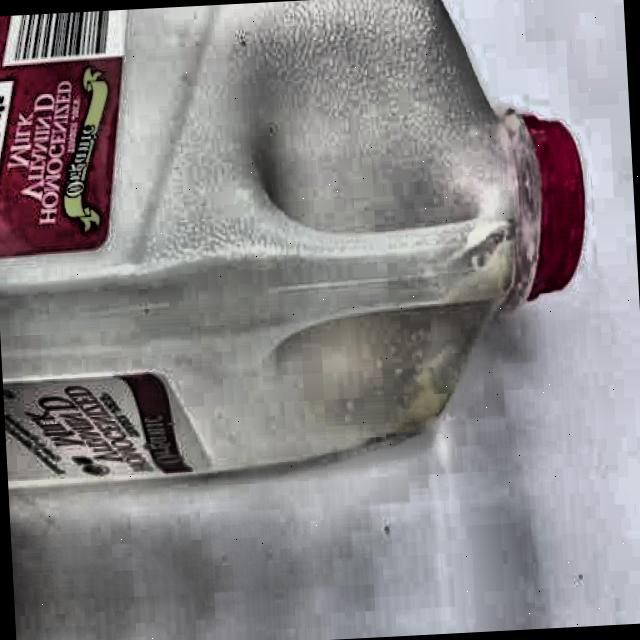plastic: (0, 0, 606, 500)
